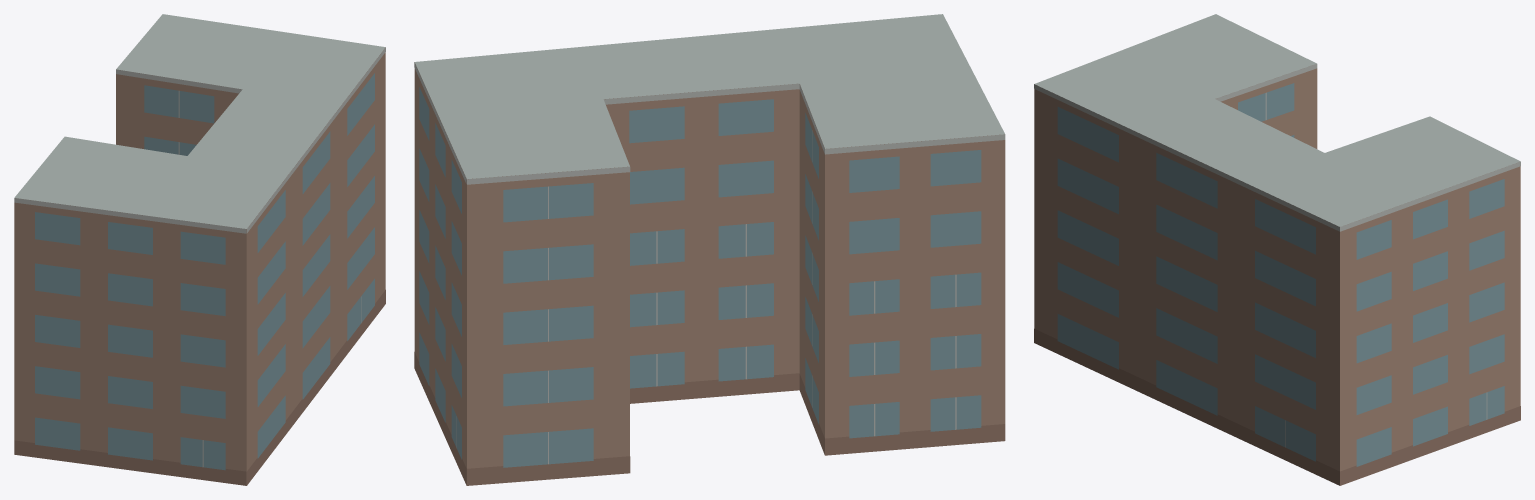
The model's file is survey-upis-32632913.glb.
3 renders of one model, left to right at view 1: azimuth 30°, elevation 25°; view 2: azimuth 150°, elevation 25°; view 3: azimuth 270°, elevation 25°, orthographic. The views are drawn at different scales.
Parts seen in each view (by area): view 1: survey-upis-32632913.tmp; view 2: survey-upis-32632913.tmp; view 3: survey-upis-32632913.tmp.
Part boxes in pixels (<box>): survey-upis-32632913.tmp: <box>14,14,385,485</box>; survey-upis-32632913.tmp: <box>414,14,1005,485</box>; survey-upis-32632913.tmp: <box>1034,14,1520,485</box>.
Size of the model in its own units: 23.48 by 13.3 by 22.67.
